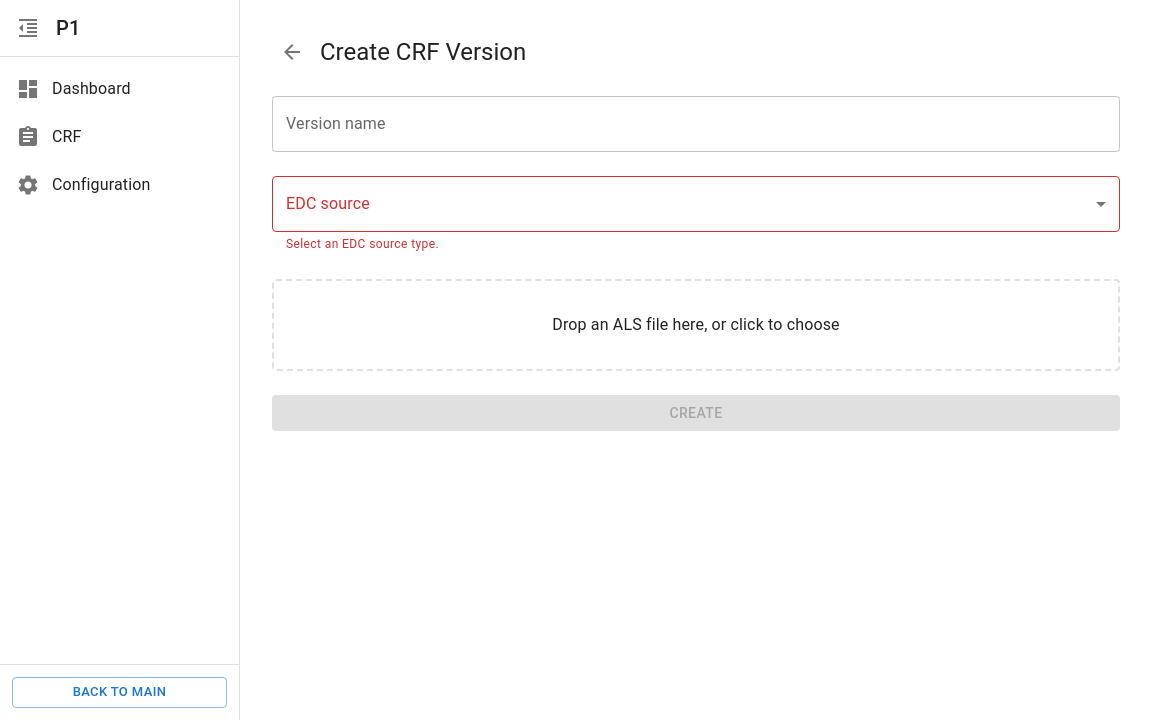
Test case: CreateCrfVersionPage — submit gating › submit enabled? all three set
Type "v1" into the field labelled "Version name" at [696, 124], box [272,96,1120,152]
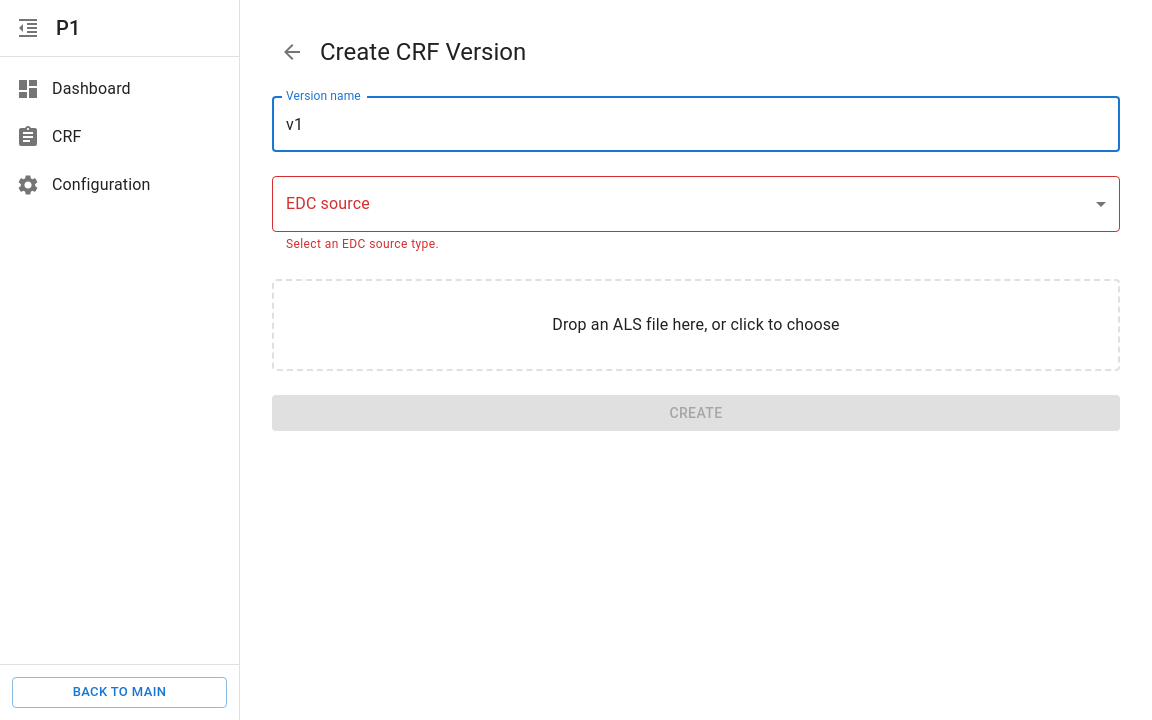
Click the dropdown named "edc source" at [696, 204], box [272,176,1120,232]
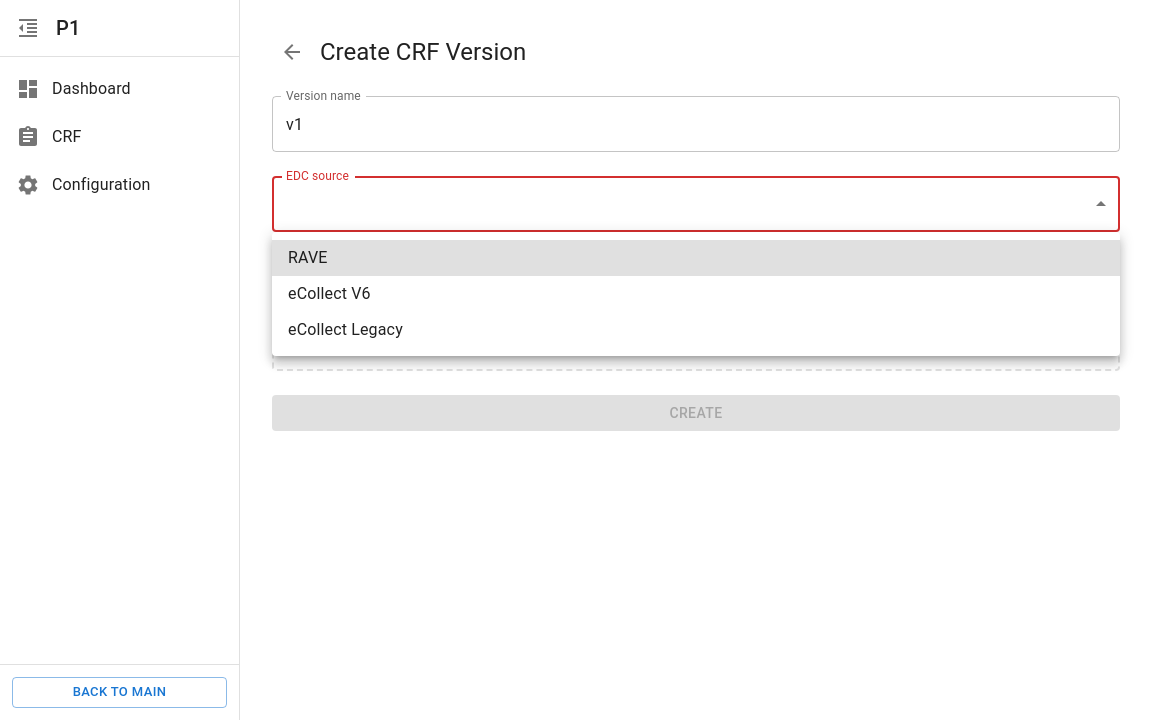
Click the option "RAVE" at [308, 258], box [272,240,1120,276]
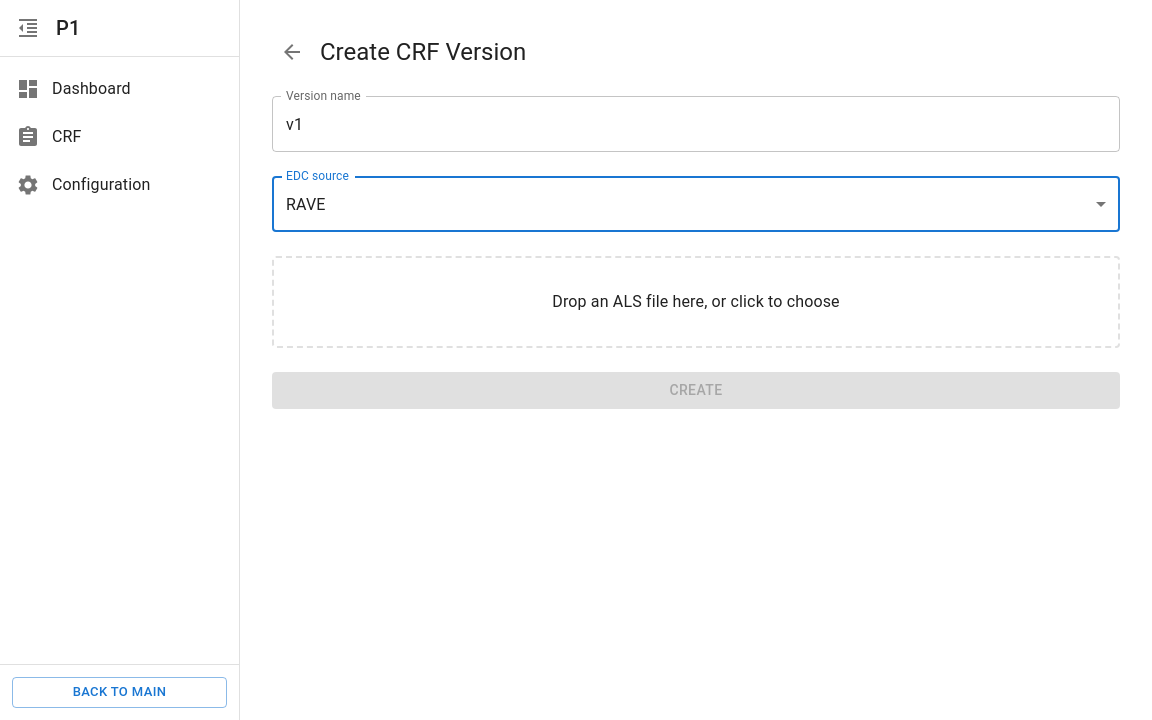
Click the button with test id "als-dropzone" at [696, 302], box [272,256,1120,348]
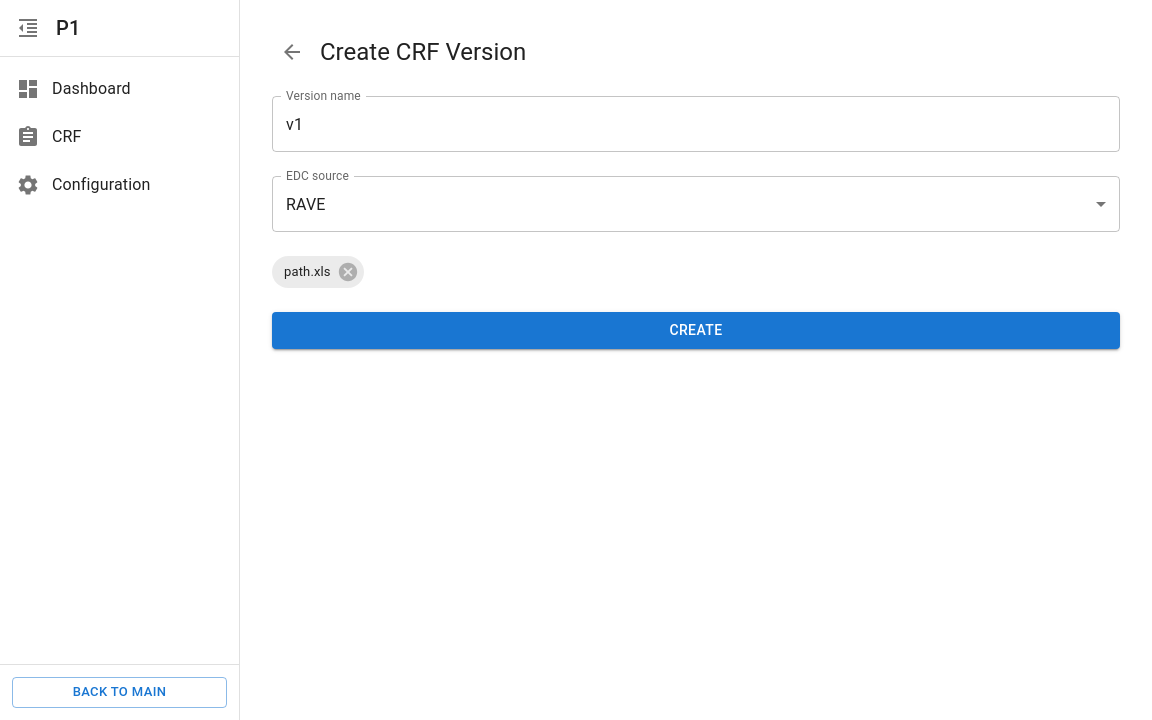
Now the text "path.xls" is shown, box [284,264,331,279]
Now the button "Create" is enabled, box [272,312,1120,348]
